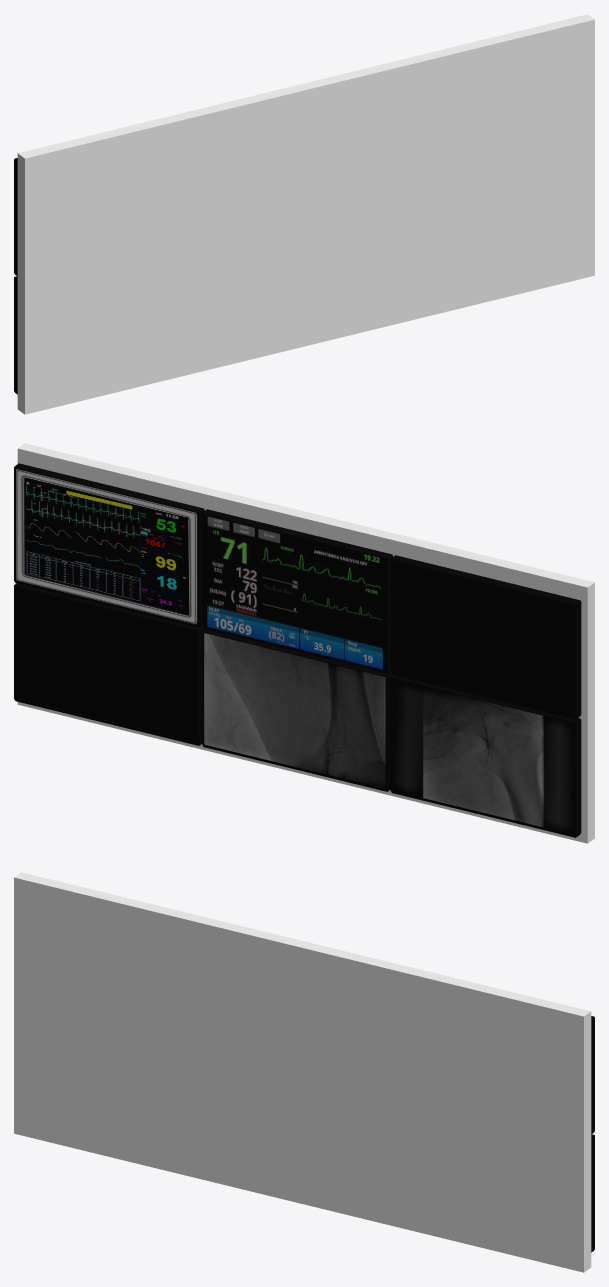
The model's file is 6 Monitor.fbx.
The picture shows the model from 3 angles, top to bottom: view 1: azimuth 30°, elevation 25°; view 2: azimuth 150°, elevation 25°; view 3: azimuth 330°, elevation 25°; orthographic projection.
Parts seen in each view (by area): view 1: Monitors; view 2: Monitors; view 3: Monitors.
Part boxes in pixels (left/top/right/bottom): Monitors: left=14, top=14, right=594, bottom=414; Monitors: left=14, top=443, right=594, bottom=843; Monitors: left=14, top=872, right=594, bottom=1272.
Bounding box in the file's own units: 90.83 × 39 × 4.16.
